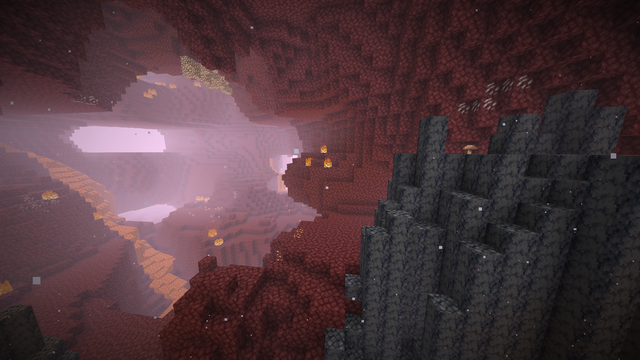nethergold: (294, 226, 303, 240), (274, 248, 283, 260)
quartz: (456, 74, 534, 114), (17, 192, 58, 212), (75, 92, 99, 105)
